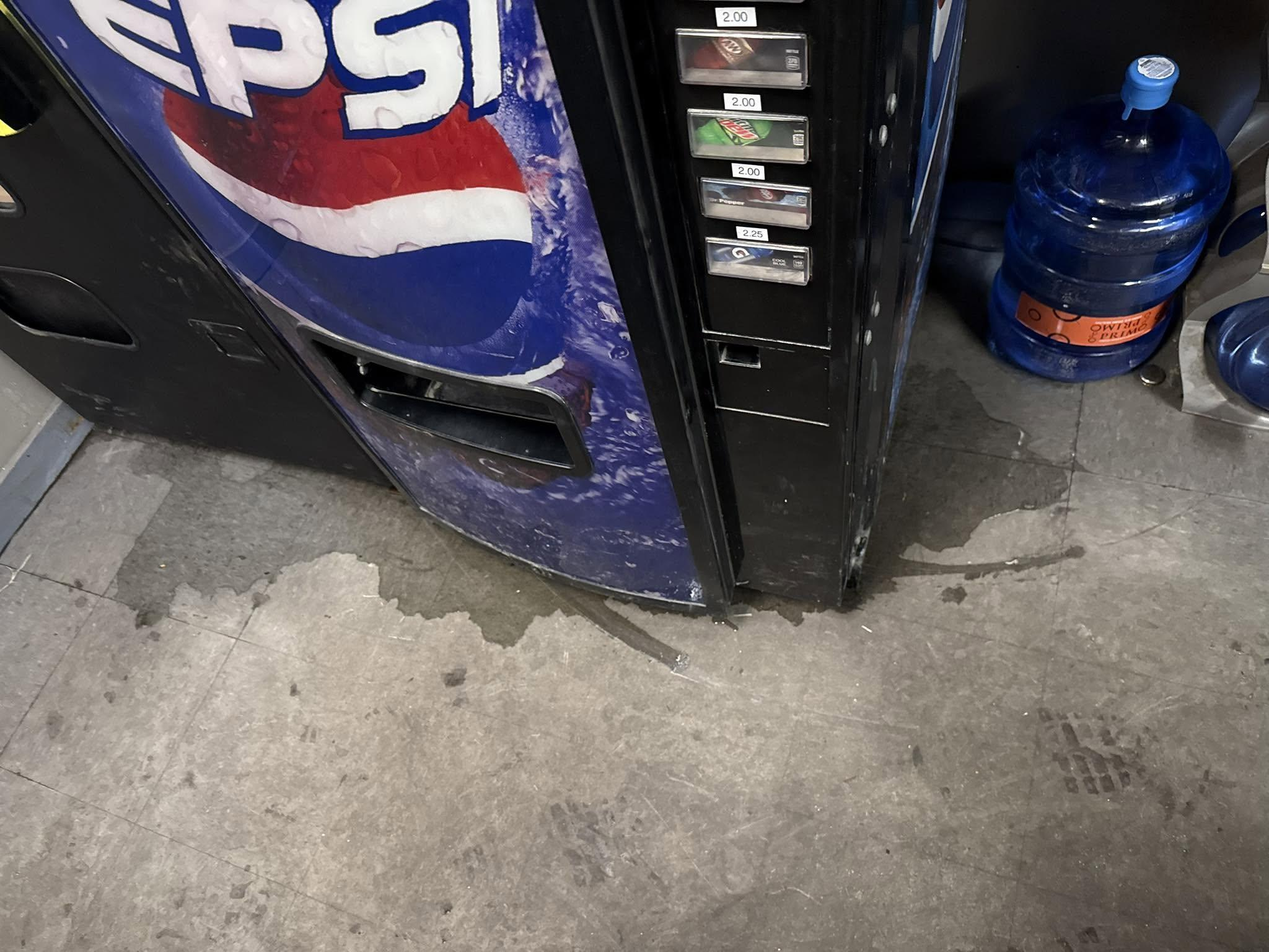water accumulation: (108, 428, 690, 669), (849, 347, 1090, 601)
